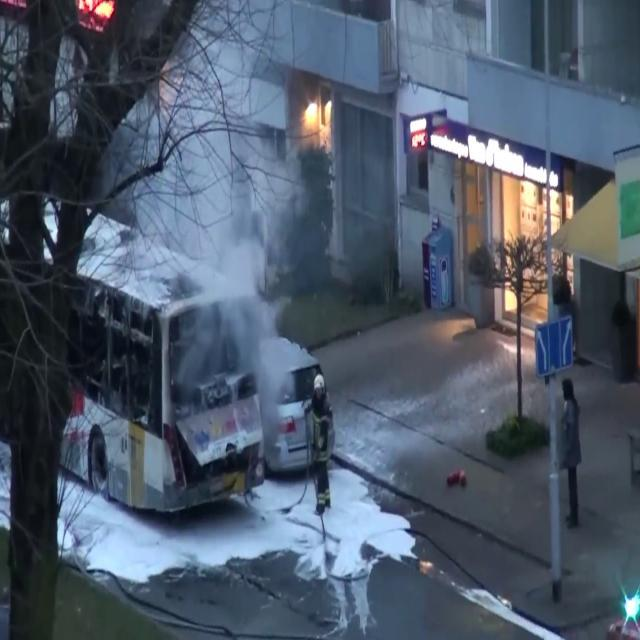Smoke: (138, 40, 306, 422)
